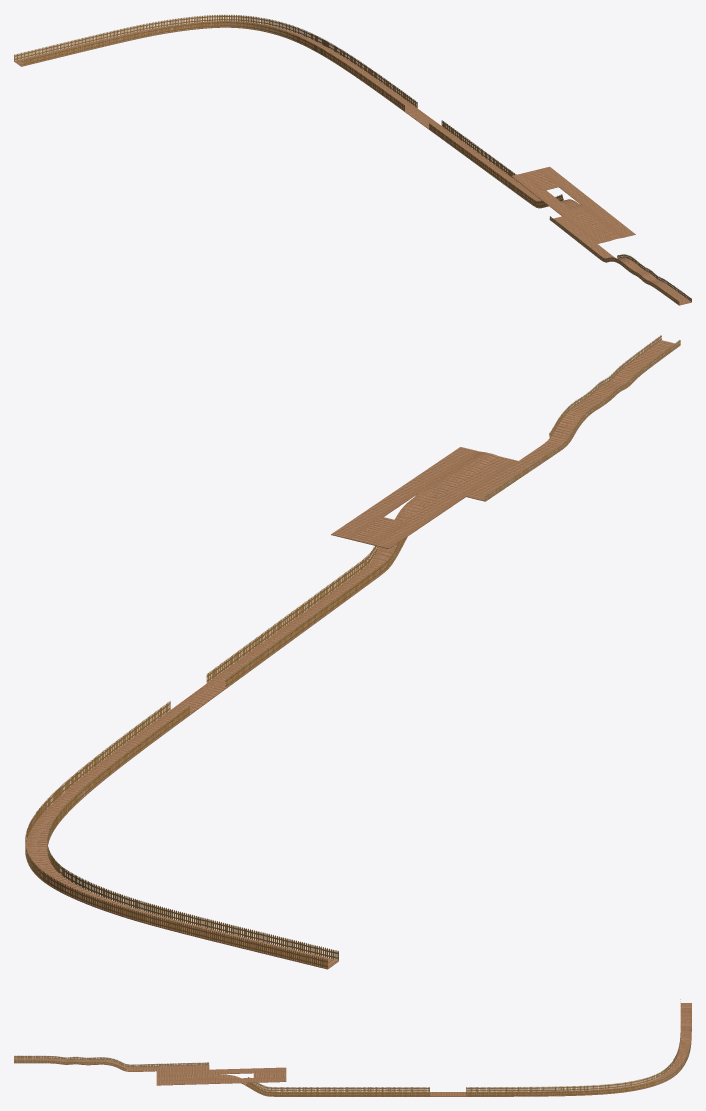
Rendered from track 9.fbx.
3 renders of one model, top to bottom at view 1: azimuth 30°, elevation 25°; view 2: azimuth 150°, elevation 25°; view 3: azimuth 270°, elevation 25°, orthographic. The views are drawn at different scales.
Visible parts, largest first — view 1: Cube.004, Cube.003, Cube, Cube.002; view 2: Cube.004, Cube.003, Cube, Cube.002; view 3: Cube.004, Cube.003, Cube, Cube.002.
Boxes of the visible parts, <box> form: Cube.004: <box>14,14,563,207</box>; Cube.003: <box>14,21,622,240</box>; Cube: <box>511,166,691,305</box>; Cube.002: <box>549,216,691,304</box>; Cube.004: <box>25,537,406,968</box>; Cube.003: <box>25,451,498,969</box>; Cube: <box>331,340,680,548</box>; Cube.002: <box>485,335,680,500</box>; Cube.004: <box>246,999,691,1096</box>; Cube.003: <box>156,1003,691,1096</box>; Cube: <box>14,1058,286,1085</box>; Cube.002: <box>14,1055,208,1070</box>.
Size of the model in its own units: 10571 by 1375 by 30834.
Materials: 4 (4 with a texture image).
